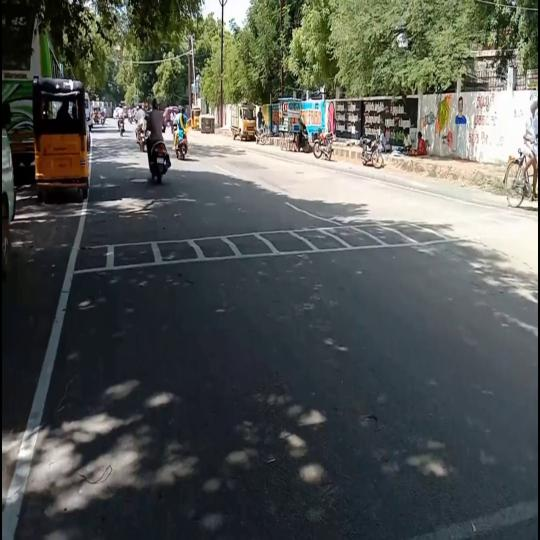Speed Bump: (70, 206, 512, 276)
